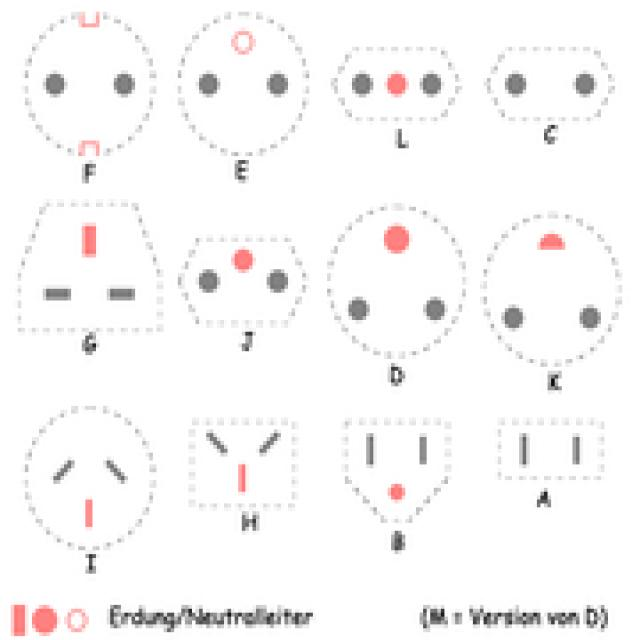typeb: (9, 1, 174, 198)
